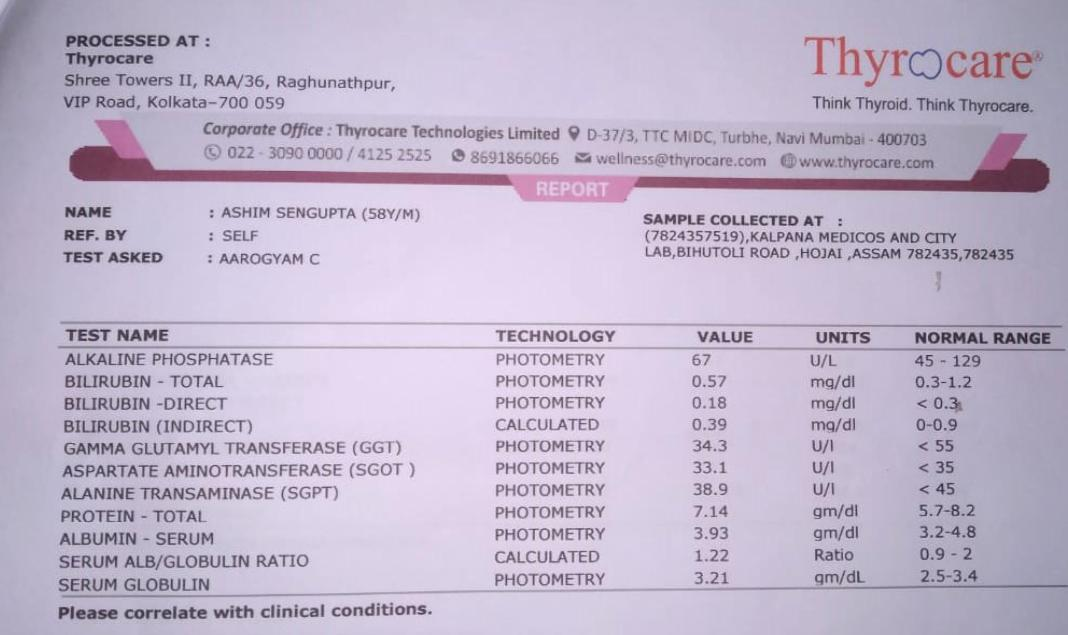Reference Range: (908, 348, 991, 588)
Test Name: (51, 346, 420, 595)
Units: (805, 348, 873, 589)
Value: (682, 347, 744, 590)
